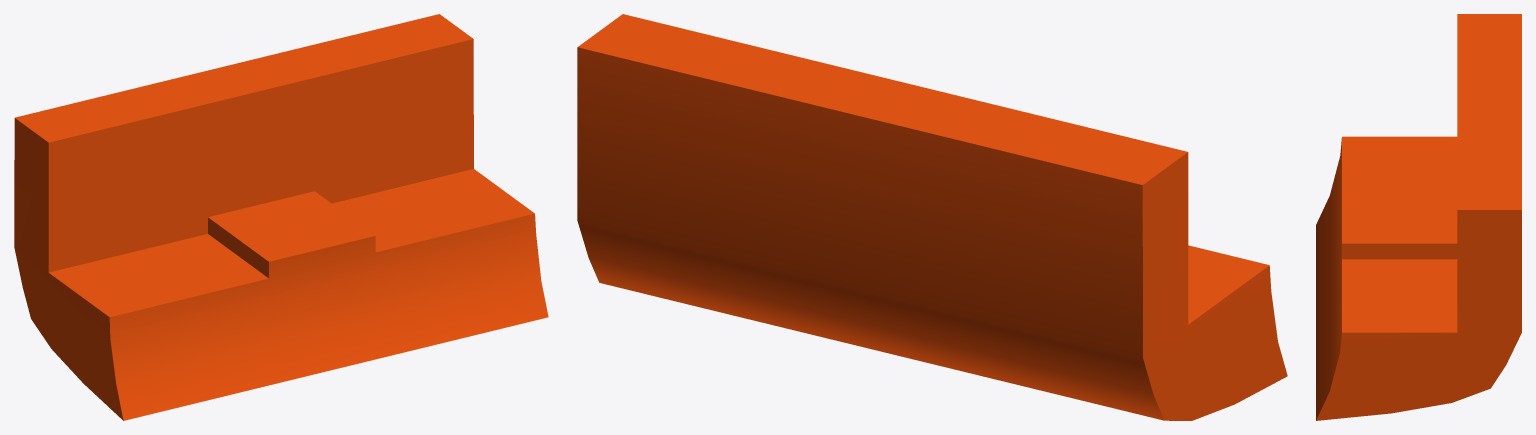
The model's file is Beard 02.FBX.
3 views of the same model, side by side, from view 1: azimuth 30°, elevation 25°; view 2: azimuth 150°, elevation 25°; view 3: azimuth 270°, elevation 25° (orthographic). The views are drawn at different scales.
Parts seen in each view (by area): view 1: Beard 02; view 2: Beard 02; view 3: Beard 02.
Part boxes in pixels (x1=…): Beard 02: x1=14, y1=14, x2=548, y2=420; Beard 02: x1=577, y1=14, x2=1287, y2=420; Beard 02: x1=1316, y1=14, x2=1521, y2=420.
Size of the model in its own units: 51.32 by 25.73 by 22.76.
Materials: 1 (1 with a texture image).
